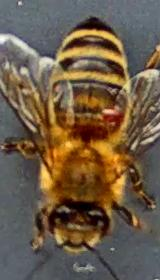varroa_mite: (93, 100, 134, 136)
